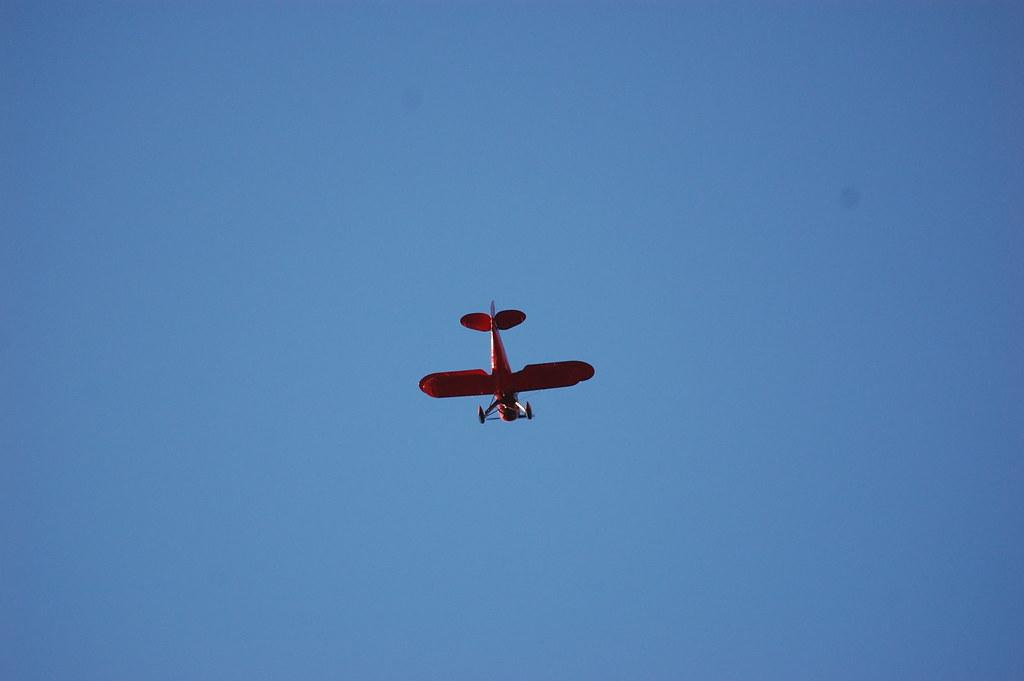plane: (418, 300, 596, 425)
